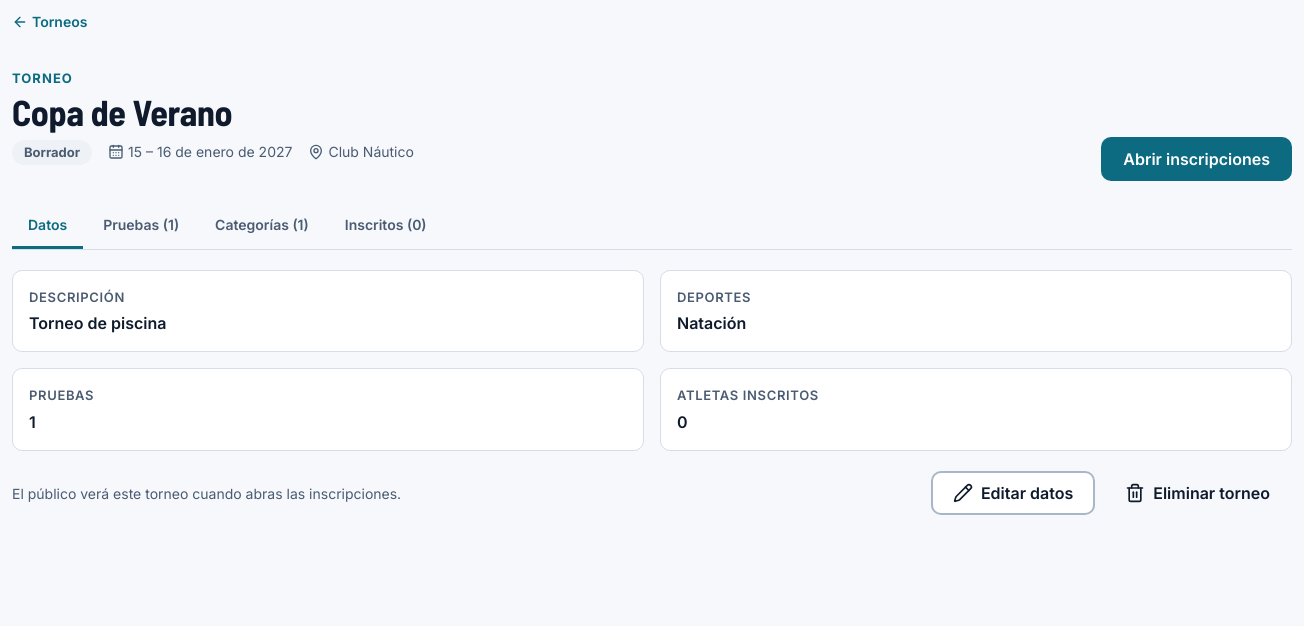
Scenario: TorneoDetallePage › abre las inscripciones con un clic
Expected: the heading "Copa de Verano" is shown, [12,90,232,133]
Click the button "Abrir inscripciones".
click(1197, 158)  # box [1101,136,1292,180]
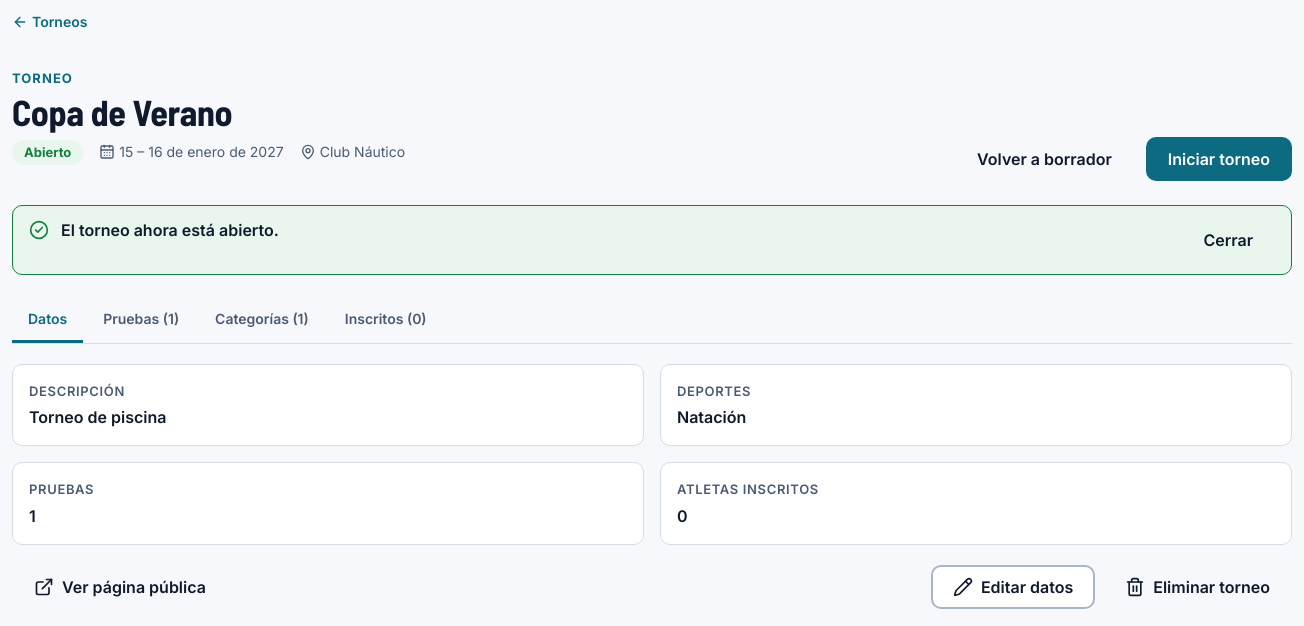
Now the button "Iniciar torneo" is shown, box [1146,136,1292,180]
